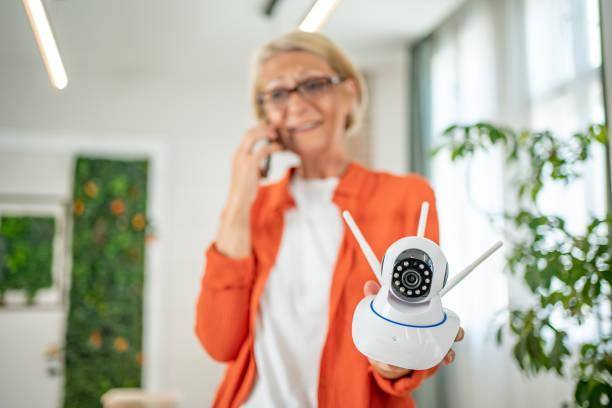camera: (326, 186, 509, 377)
